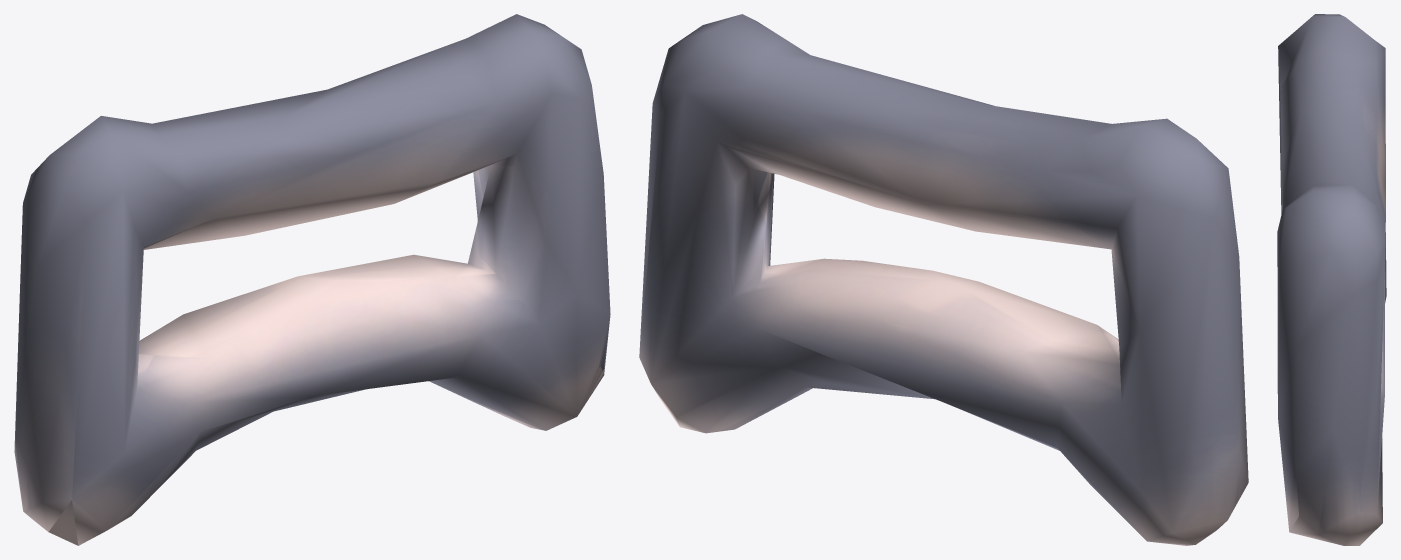
File: aaa_mouth.dae
3 views of the same model, side by side, from view 1: azimuth 30°, elevation 25°; view 2: azimuth 150°, elevation 25°; view 3: azimuth 270°, elevation 25° (orthographic). The views are drawn at different scales.
Parts seen in each view (by area): view 1: aaa_mouth; view 2: aaa_mouth; view 3: aaa_mouth.
Part boxes in pixels (x1,y1,x2,y2): aaa_mouth: [14, 14, 610, 545]; aaa_mouth: [639, 14, 1248, 545]; aaa_mouth: [1277, 14, 1386, 545].
Bounding box in the file's own units: 0.5407 × 0.1025 × 0.3645.
Materials: 1 (1 with a texture image).
